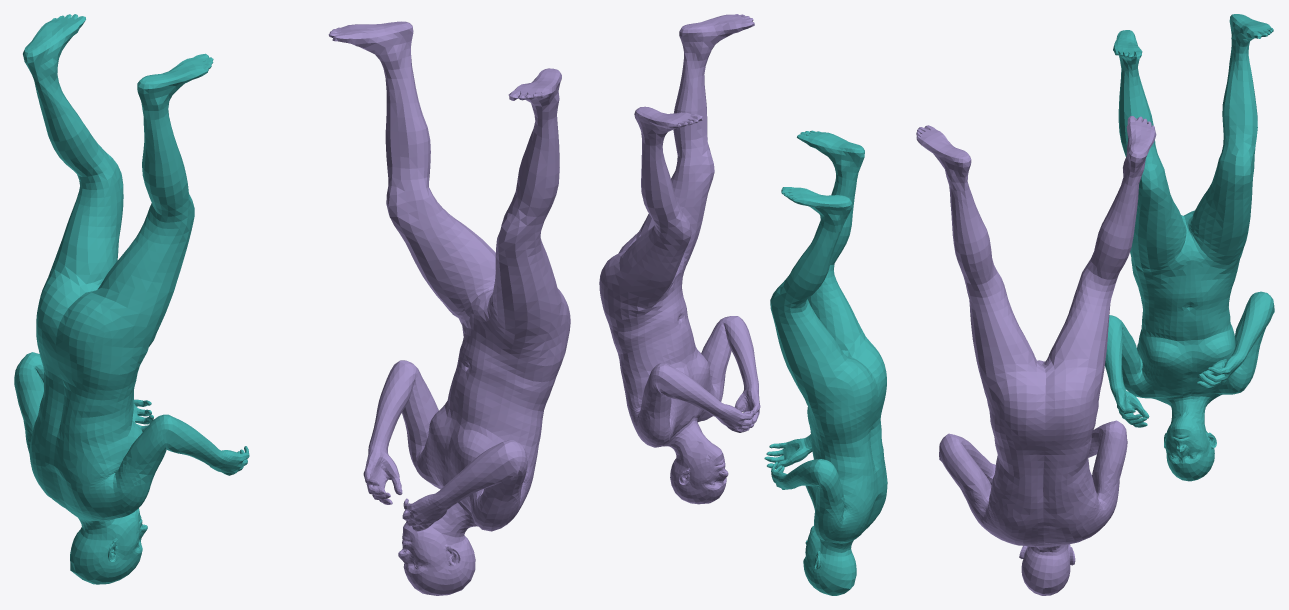
Rendered from all_people_native_world.glb.
3 views of the same model, side by side, from view 1: azimuth 30°, elevation 25°; view 2: azimuth 150°, elevation 25°; view 3: azimuth 270°, elevation 25° (orthographic). The views are drawn at different scales.
Visible parts, largest first — view 1: persistent_id_2_slot_0, persistent_id_1_slot_1; view 2: persistent_id_2_slot_0, persistent_id_1_slot_1; view 3: persistent_id_2_slot_0, persistent_id_1_slot_1.
Boxes of the visible parts, x1,y1,x2,y2 form: persistent_id_2_slot_0: (328,21,570,595); persistent_id_1_slot_1: (14,14,249,584); persistent_id_2_slot_0: (599,14,760,504); persistent_id_1_slot_1: (764,130,887,595); persistent_id_2_slot_0: (916,116,1156,595); persistent_id_1_slot_1: (1105,14,1274,481).
Bounding box in the file's own units: 1.37 × 1.7 × 1.18.
